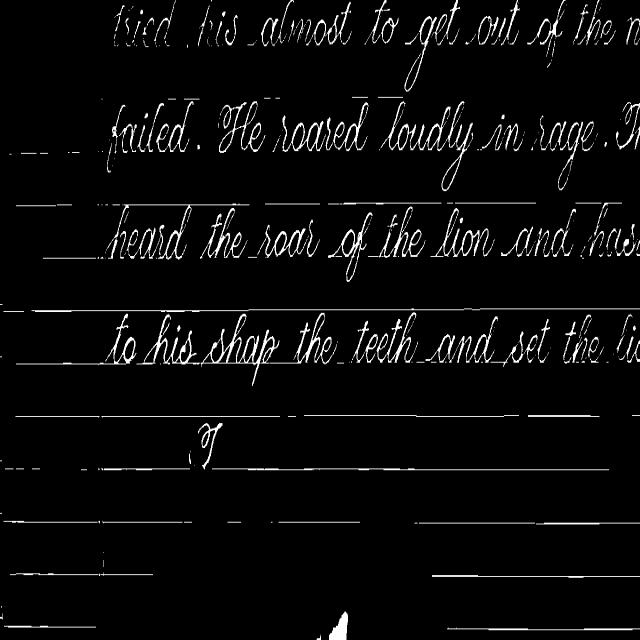hand: (329, 612, 348, 639), (316, 636, 322, 639)
noise: (26, 307, 640, 316), (0, 461, 190, 484), (211, 466, 609, 473), (10, 559, 154, 575), (16, 414, 280, 420), (302, 413, 522, 419), (414, 521, 640, 526), (431, 574, 640, 579), (2, 519, 194, 524), (327, 201, 536, 204), (447, 628, 640, 631), (8, 150, 104, 156), (526, 413, 600, 419), (16, 362, 113, 366), (575, 196, 622, 204), (277, 519, 360, 523), (43, 255, 103, 260), (4, 625, 96, 628), (112, 203, 249, 205), (268, 360, 296, 368), (16, 204, 72, 207), (226, 516, 242, 525), (42, 204, 72, 208), (265, 203, 321, 205), (3, 309, 24, 314), (378, 96, 402, 100), (630, 410, 640, 419), (184, 97, 200, 101), (352, 96, 368, 99), (263, 97, 271, 99), (168, 98, 175, 100), (276, 97, 280, 100)
not-noise: (114, 0, 588, 91), (481, 116, 596, 190), (381, 102, 473, 190), (106, 99, 195, 172), (424, 316, 550, 364), (102, 205, 192, 259), (272, 102, 369, 152), (200, 314, 278, 375), (350, 312, 416, 363), (510, 209, 576, 257), (581, 204, 640, 257), (328, 212, 372, 281), (431, 208, 494, 256), (142, 313, 196, 363), (218, 101, 268, 150), (200, 206, 247, 258), (218, 100, 264, 152), (378, 207, 424, 257), (257, 220, 319, 257), (293, 312, 336, 364), (573, 0, 615, 44), (564, 315, 604, 361), (104, 314, 136, 364), (188, 423, 222, 468), (616, 101, 640, 148), (616, 315, 640, 362), (626, 17, 640, 44), (604, 141, 606, 147), (198, 144, 200, 149)
